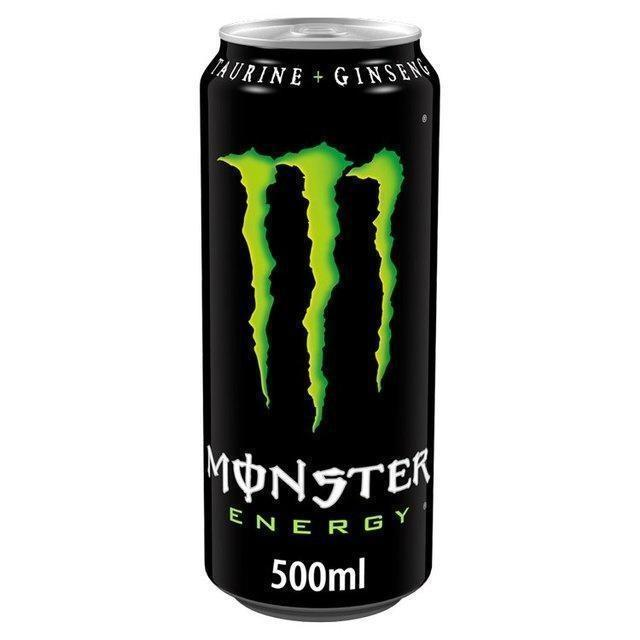tin can: (198, 11, 443, 624)
